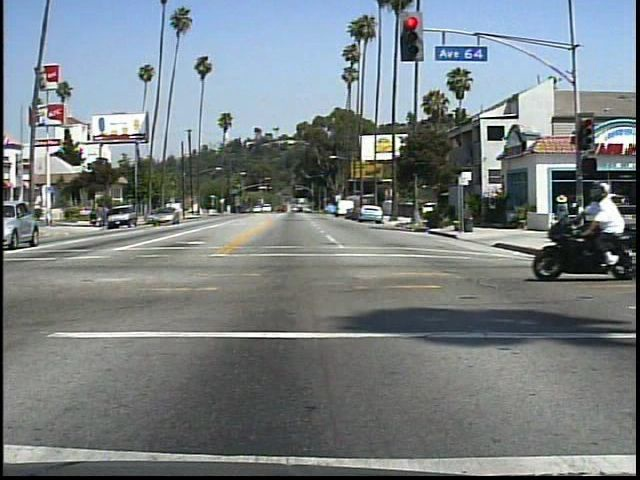person: (550, 190, 575, 230)
